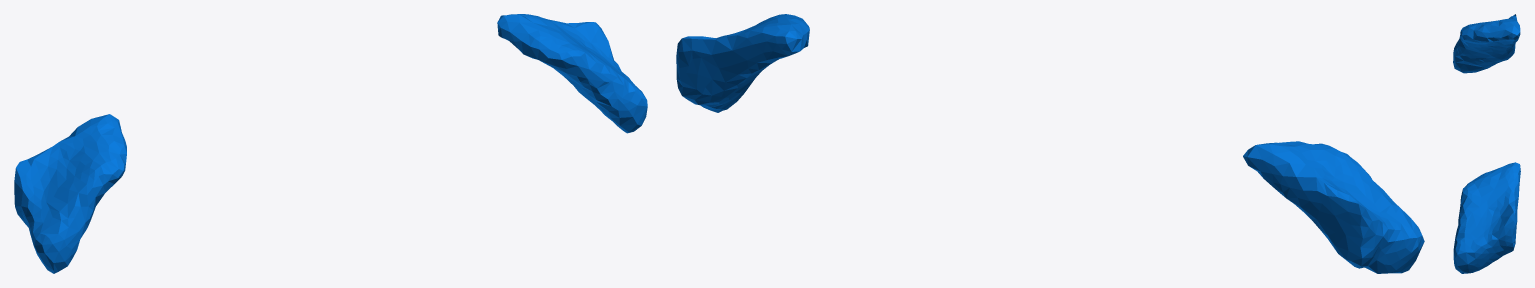
File: 145-S2I-secondary somatosensory cortex, internal part-('0.0000', '0.5373', '1.0000').obj
The picture shows the model from 3 angles, left to right: view 1: azimuth 30°, elevation 25°; view 2: azimuth 150°, elevation 25°; view 3: azimuth 270°, elevation 25°; orthographic projection. The views are drawn at different scales.
Size of the model in its own units: 287 by 50.72 by 38.89.
